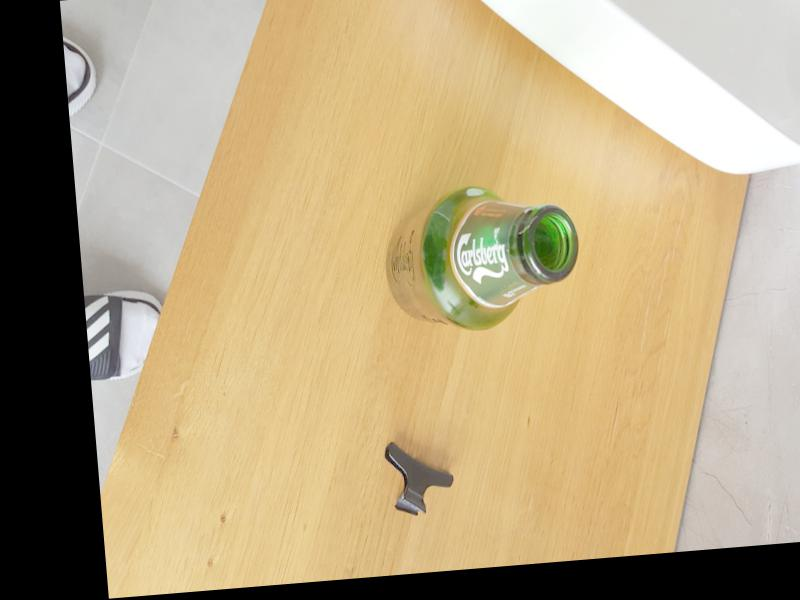Beer: (379, 176, 583, 337)
